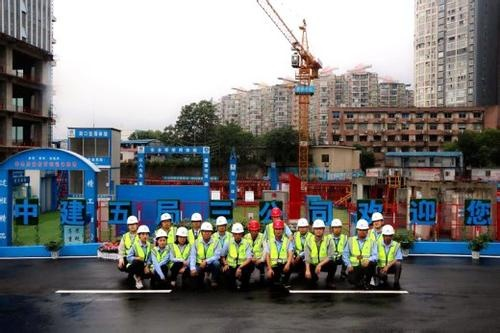red: (272, 220, 285, 238), (268, 206, 282, 222), (246, 220, 260, 236)
white: (354, 219, 370, 238), (380, 224, 396, 243), (154, 229, 168, 249), (229, 222, 244, 240), (296, 216, 310, 235), (311, 218, 325, 237), (329, 217, 343, 235), (137, 224, 150, 243), (200, 220, 213, 239), (370, 211, 384, 228), (190, 211, 202, 229), (214, 217, 227, 233), (176, 227, 188, 244), (126, 216, 138, 232), (160, 214, 172, 230)
